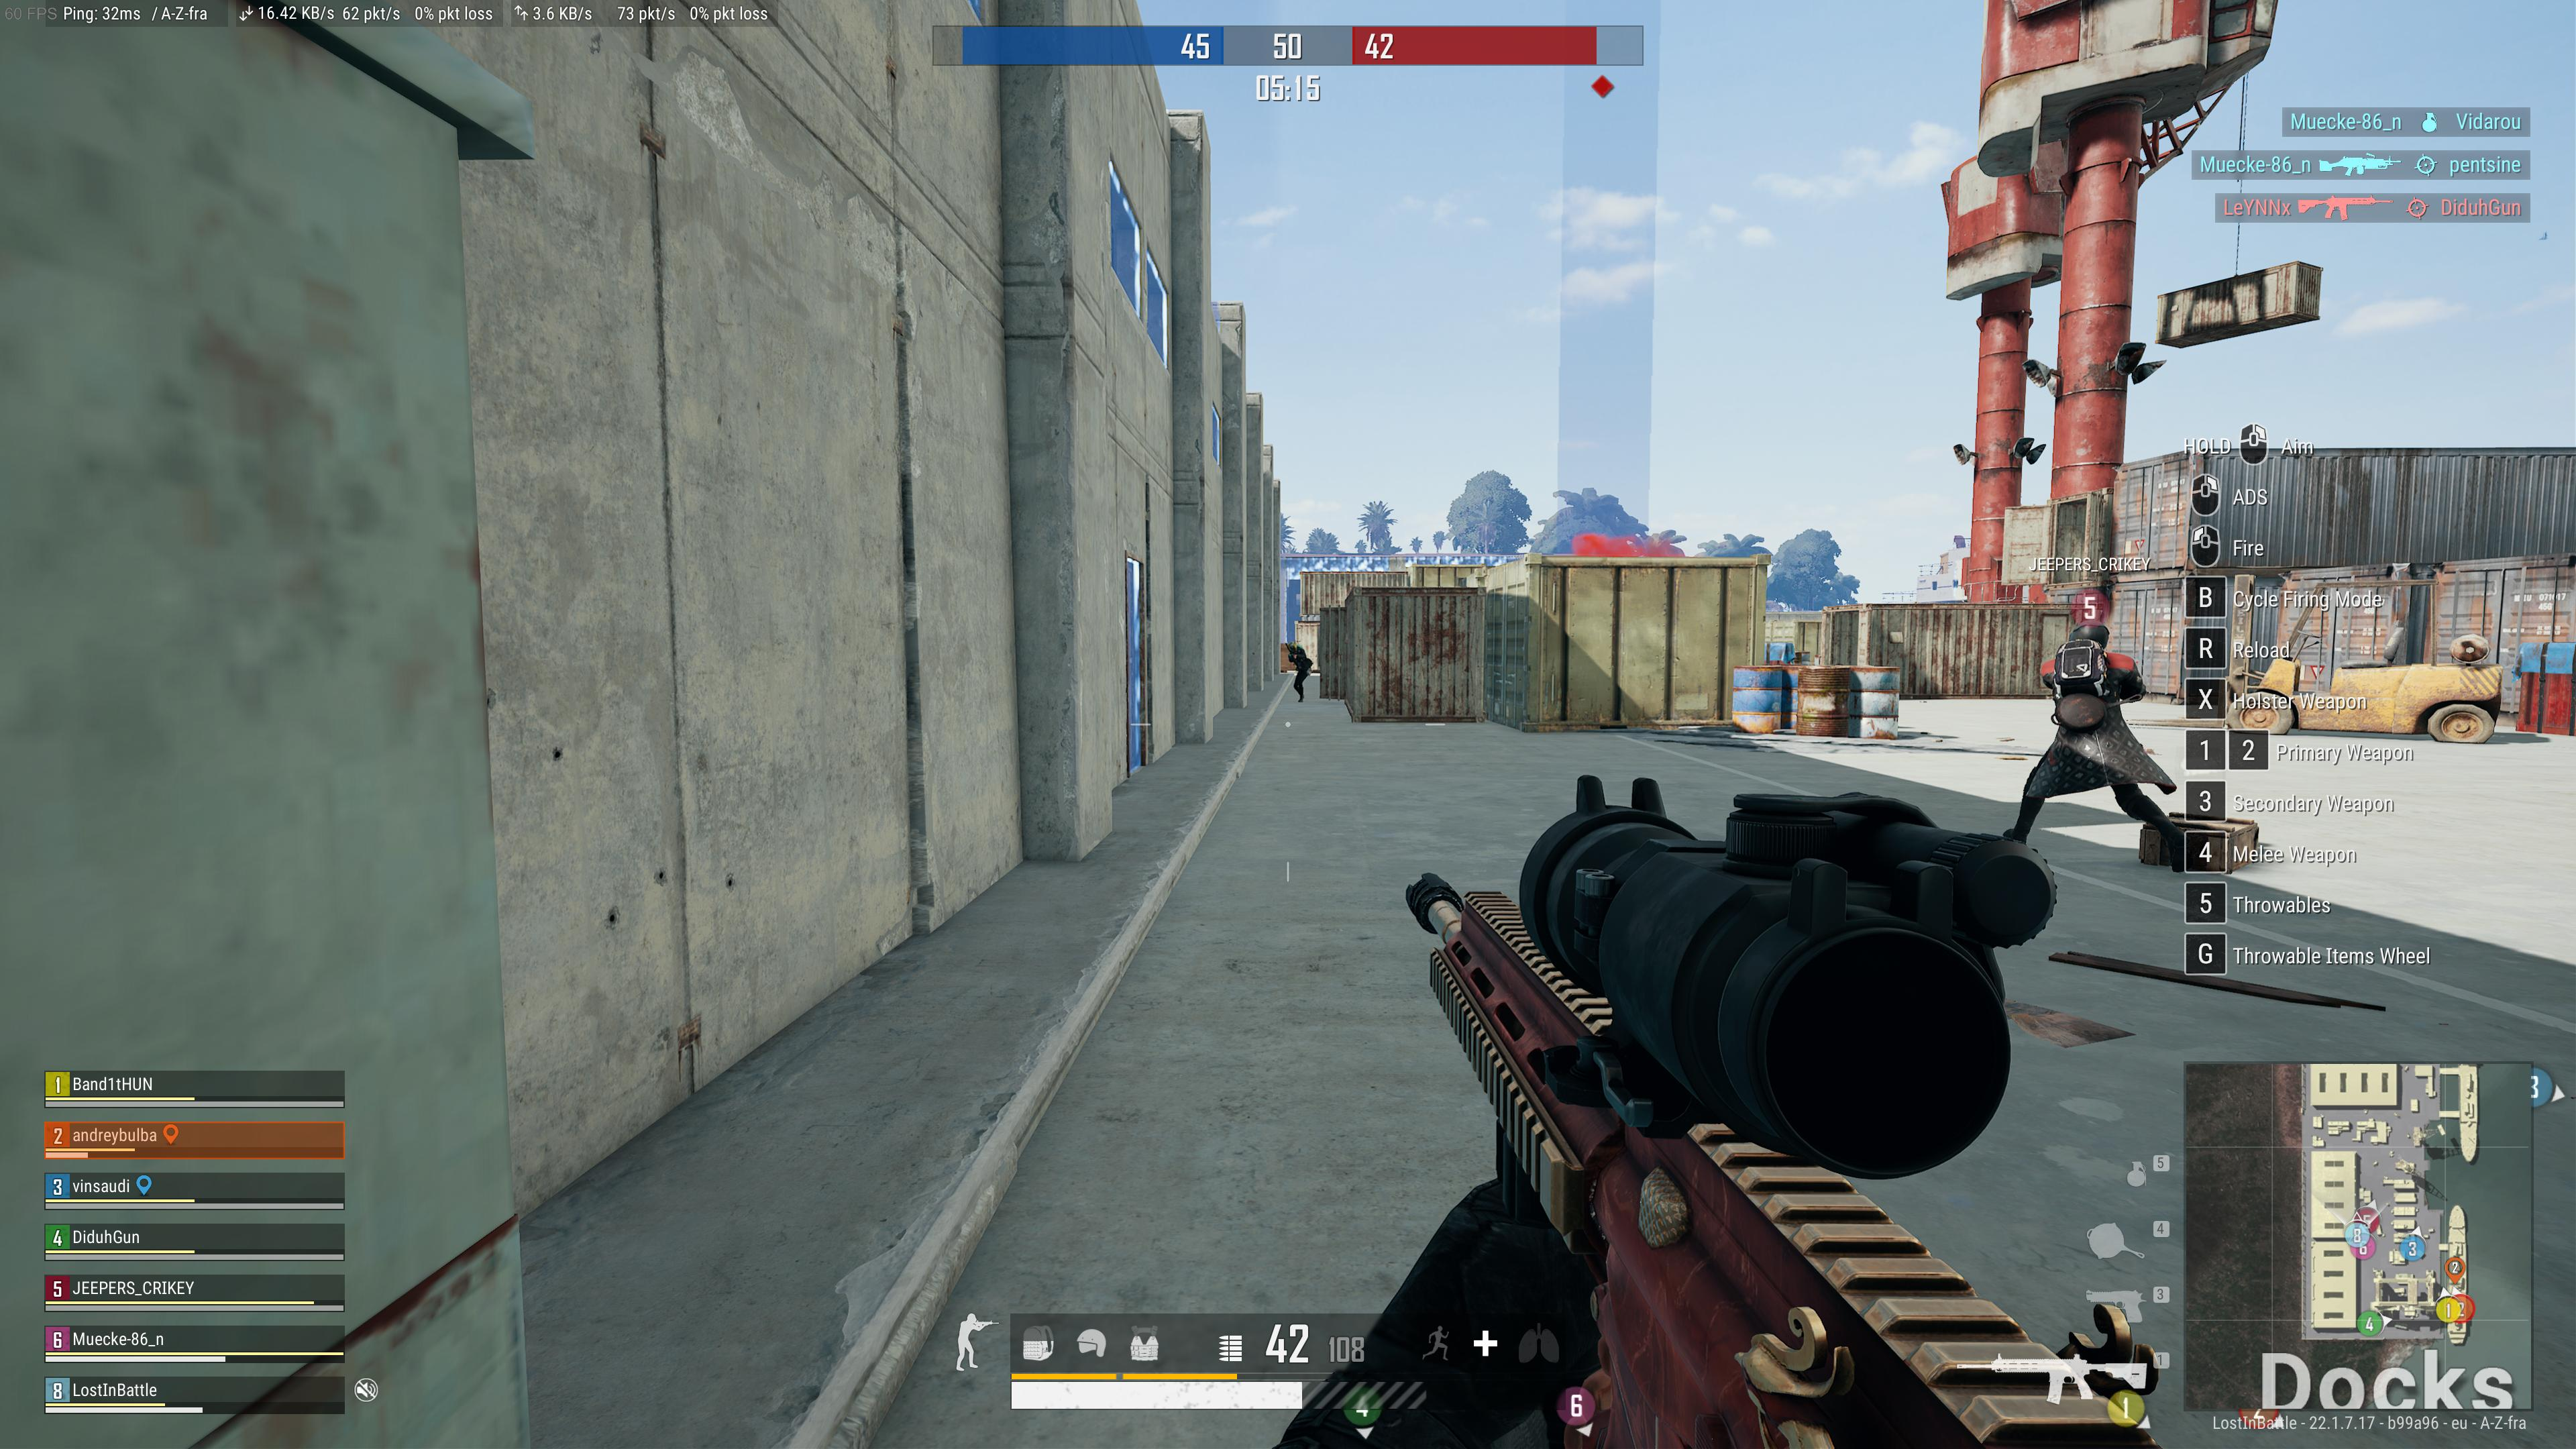enemy: (1283, 640, 1311, 702)
enemy_head: (1286, 640, 1299, 655)
friendly: (2031, 600, 2181, 879)
